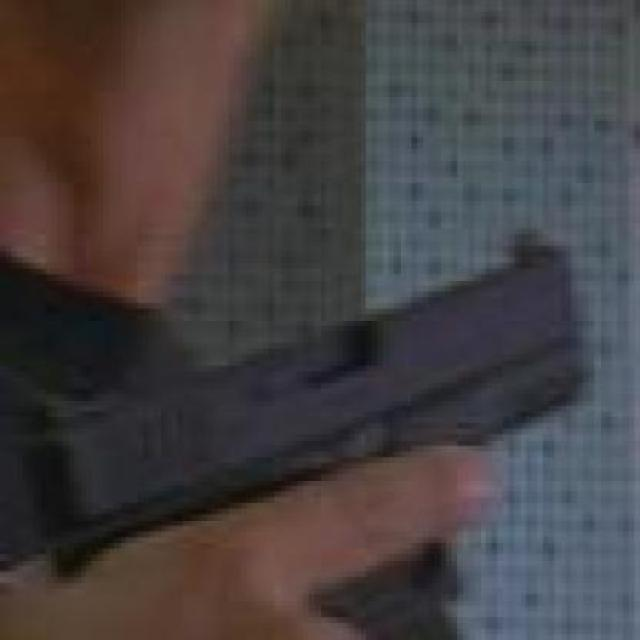rifle: (35, 221, 587, 608)
